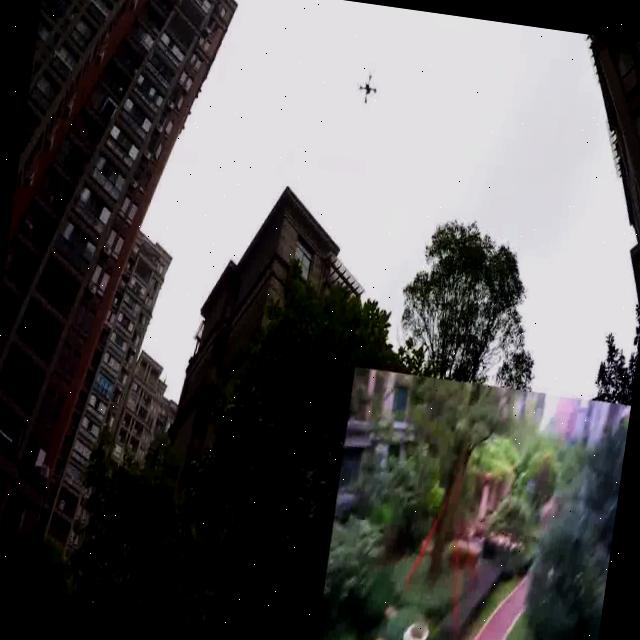drone: (344, 41, 384, 108)
